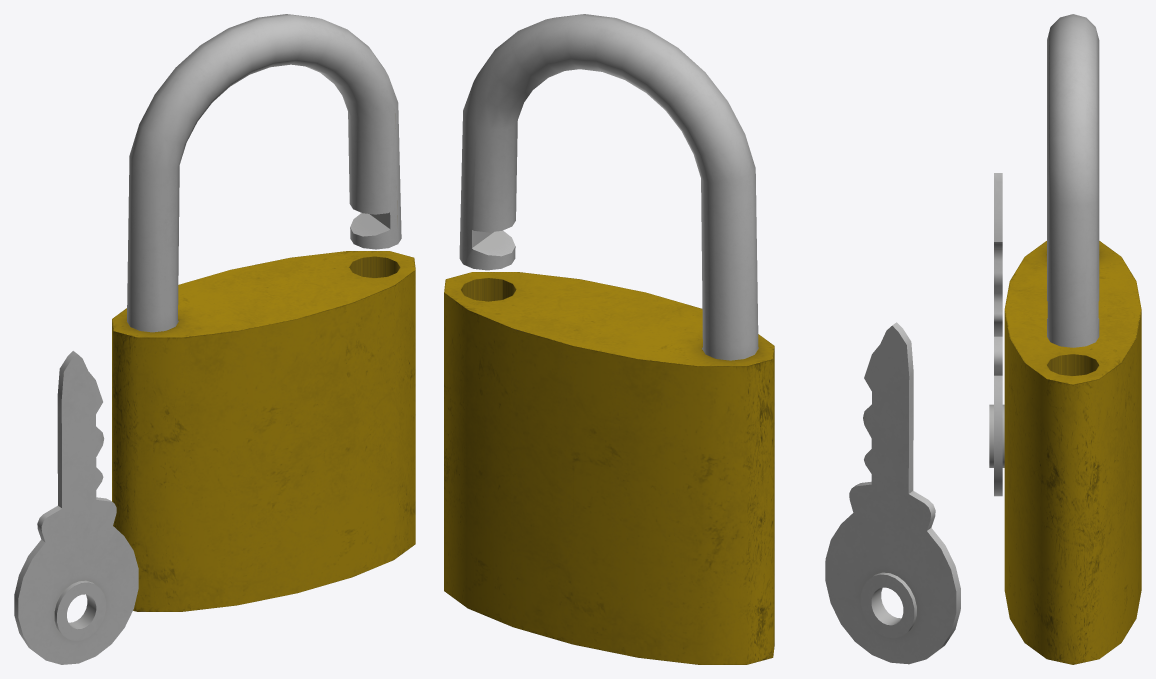
The model's file is key.fbx.
3 renders of one model, left to right at view 1: azimuth 30°, elevation 25°; view 2: azimuth 150°, elevation 25°; view 3: azimuth 270°, elevation 25°, orthographic. The views are drawn at different scales.
Parts seen in each view (by area): view 1: Padlock, Padlock lock, Key; view 2: Padlock, Padlock lock, Key; view 3: Padlock, Padlock lock, Key.
Boxes of the visible parts, box(x1,y1,x2,y2) form: Padlock: box(112, 251, 415, 611); Padlock lock: box(127, 14, 401, 332); Key: box(14, 351, 138, 664); Padlock: box(444, 272, 774, 664); Padlock lock: box(459, 14, 758, 360); Key: box(825, 322, 960, 664); Padlock: box(1004, 241, 1141, 664); Padlock lock: box(1047, 14, 1099, 347); Key: box(989, 173, 1004, 496).
Bounding box in the file's own units: 411 × 507 × 122.
